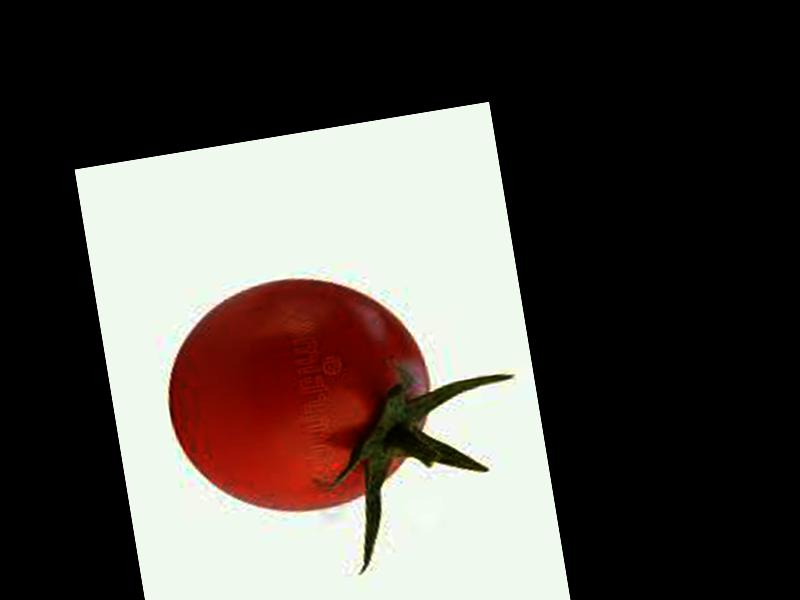Tomato: (151, 259, 444, 528)
